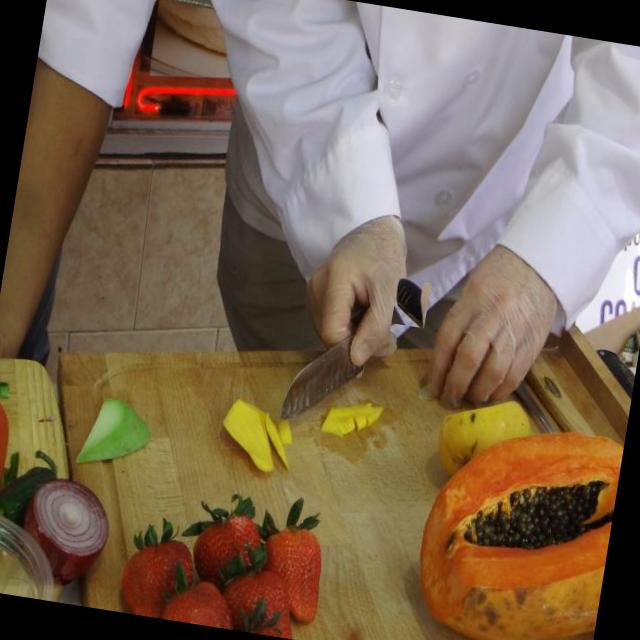Knife: (281, 305, 367, 418), (396, 279, 426, 328)
